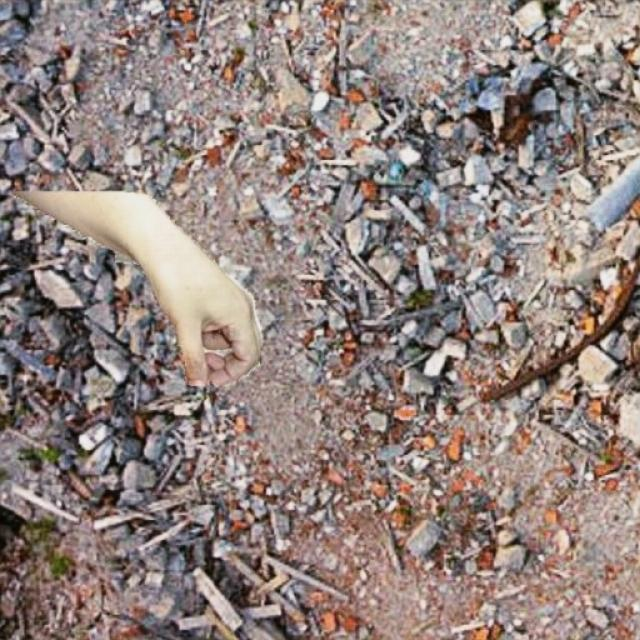Person in Rubble: (12, 191, 262, 385)
